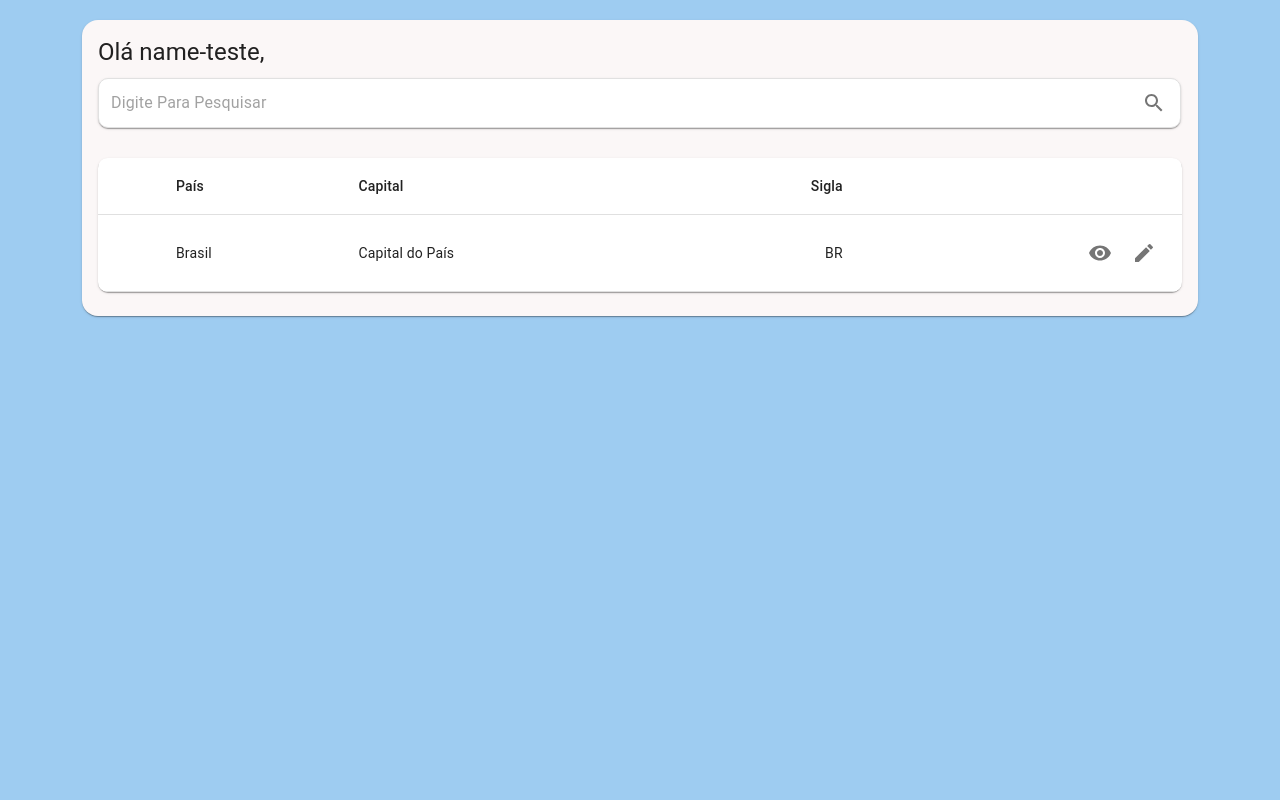
When entering the flags page › When you click on see you must open modal
The image size is (1280, 800).
Type "Brasil" into the field with test id "inputFlagsSearch" at (622, 103), box left=111, top=87, right=1132, bottom=119
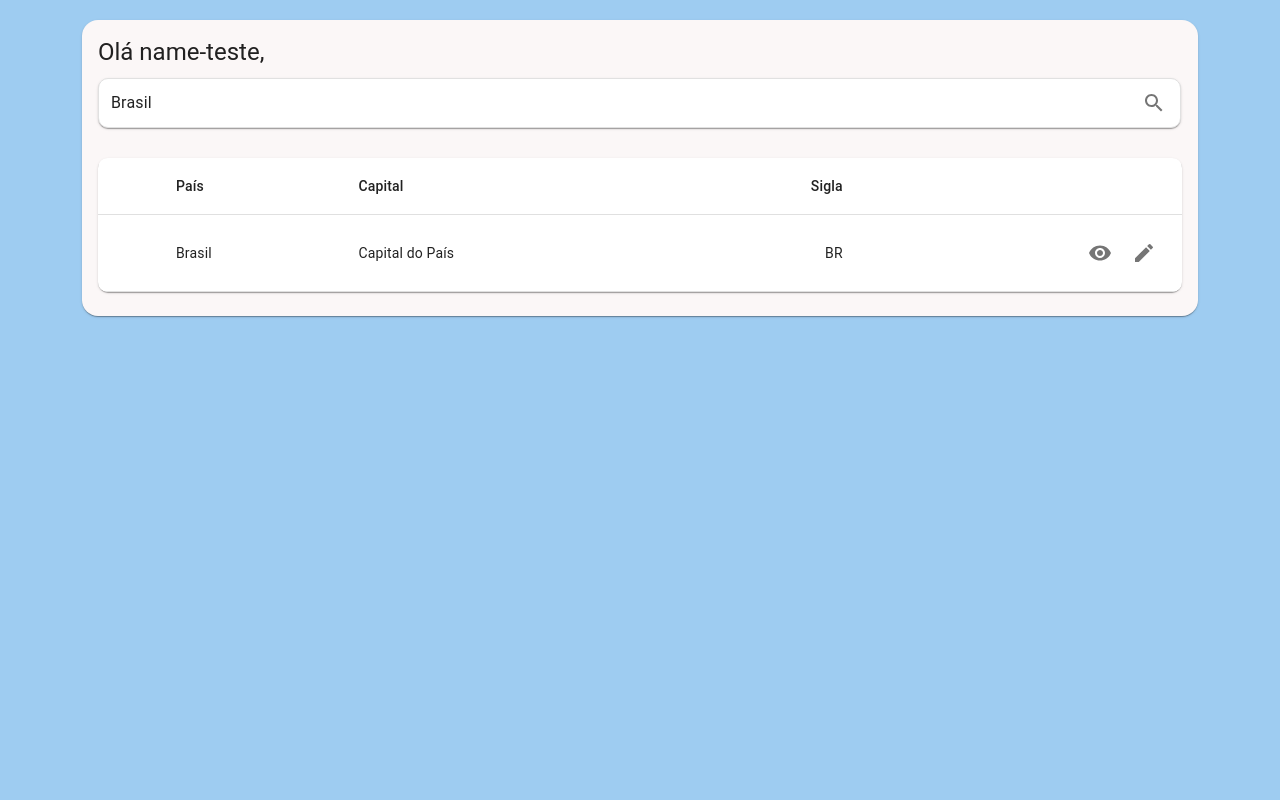
Click the button with test id "ButtonView-Brasil" at (1100, 253), box left=1078, top=231, right=1122, bottom=275
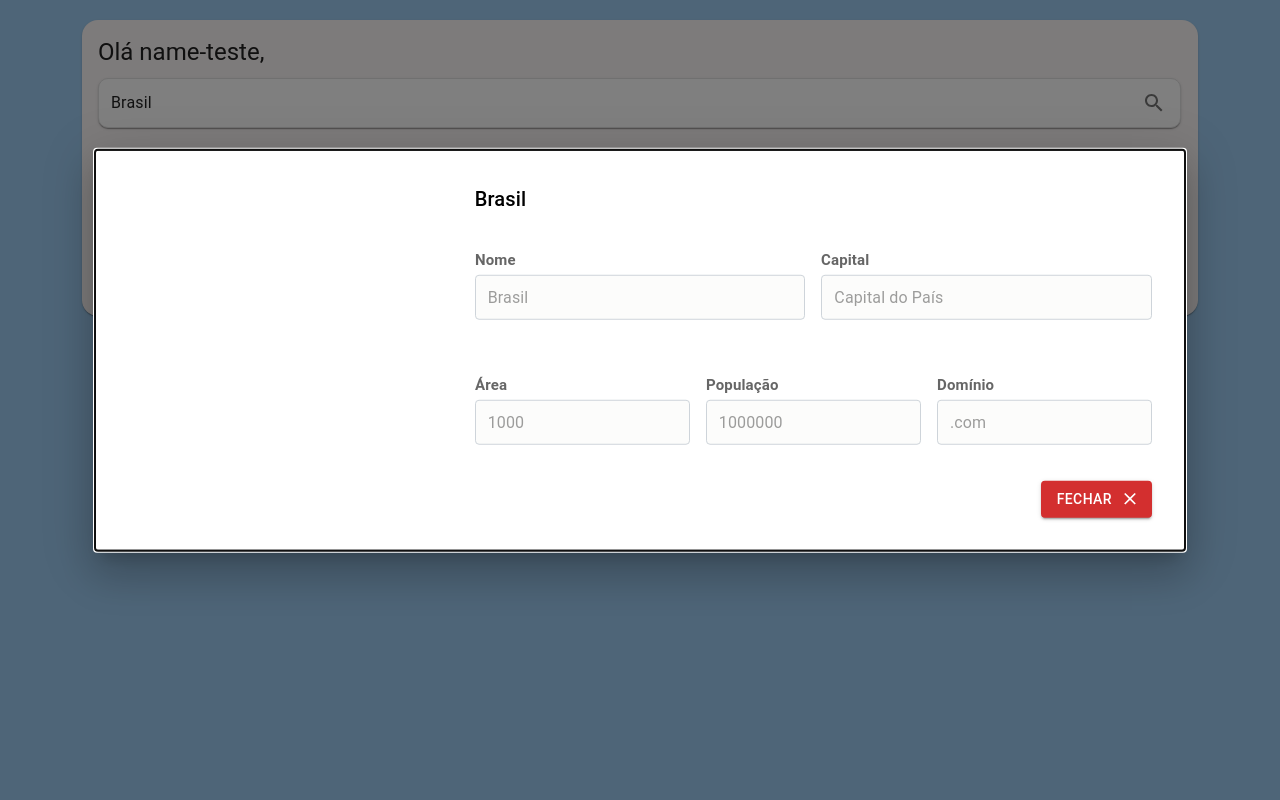
Result: the element with test id "Modal-Brasil" is shown at left=0, top=350, right=1279, bottom=799
